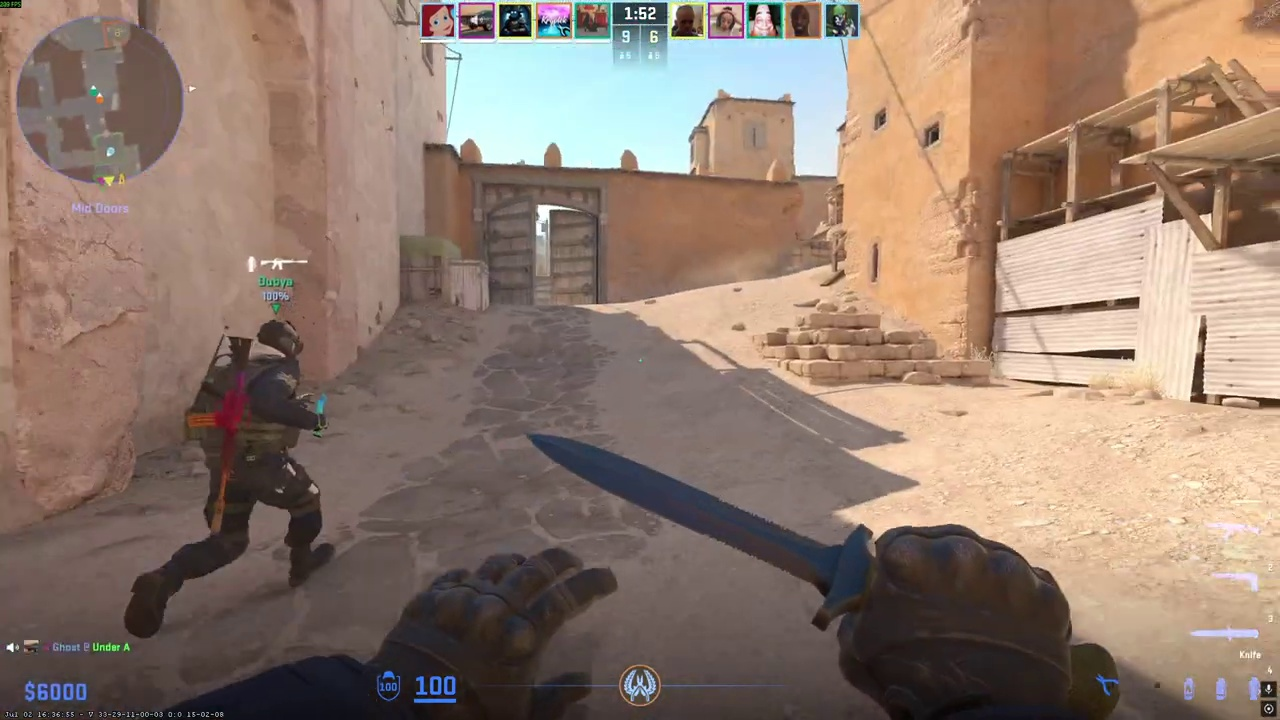CT: (136, 320, 335, 639)
